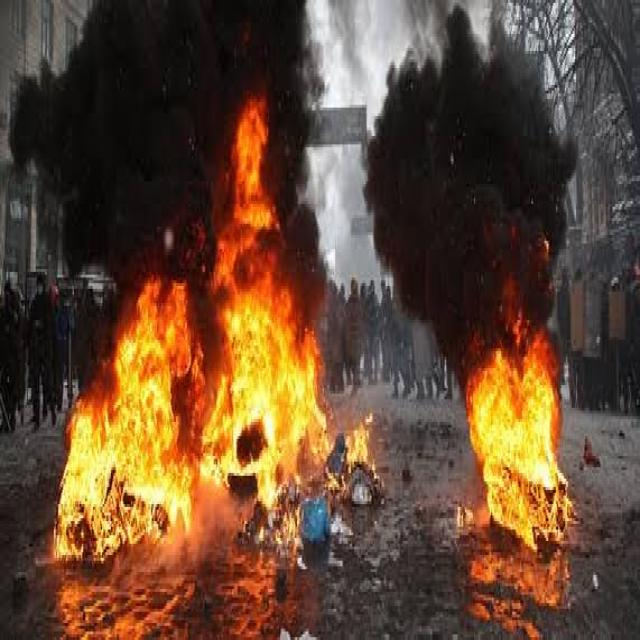fire: (200, 290, 334, 510), (54, 396, 191, 562), (467, 373, 572, 551), (117, 282, 205, 398), (235, 98, 279, 228), (470, 552, 569, 604), (468, 594, 540, 640), (212, 227, 257, 289), (257, 228, 284, 289), (346, 414, 372, 472), (524, 332, 559, 372)
